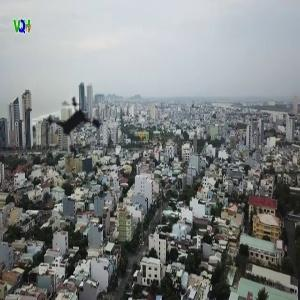drone: (7, 60, 136, 189)
